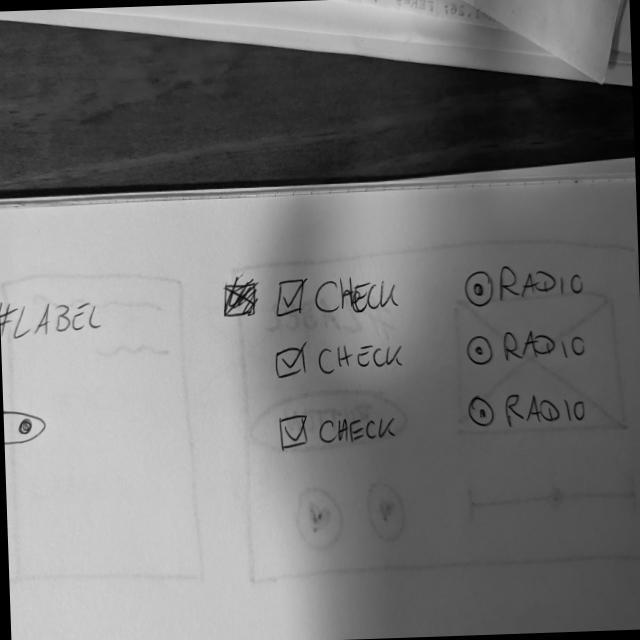checkbox: (274, 271, 403, 323), (273, 335, 408, 384), (277, 409, 401, 454)
label: (1, 292, 105, 344)
radio: (463, 259, 587, 310), (465, 387, 587, 433), (465, 326, 591, 368)
toggle: (4, 408, 48, 448)
